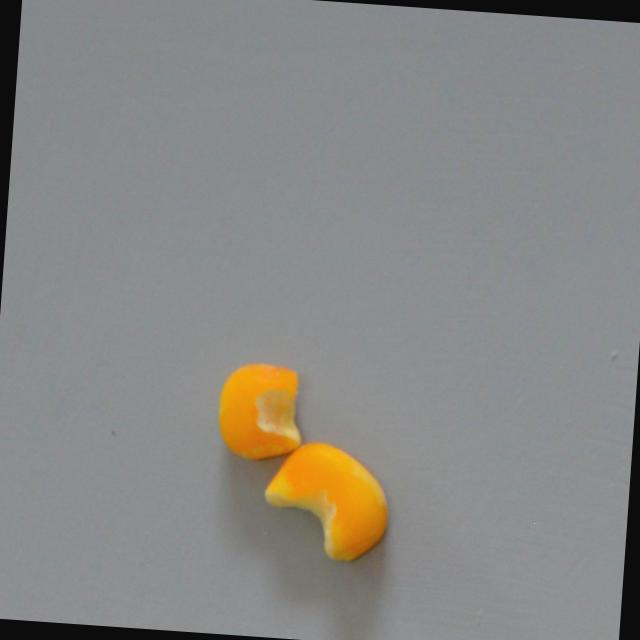dañado: (255, 436, 395, 568), (214, 355, 308, 465)
